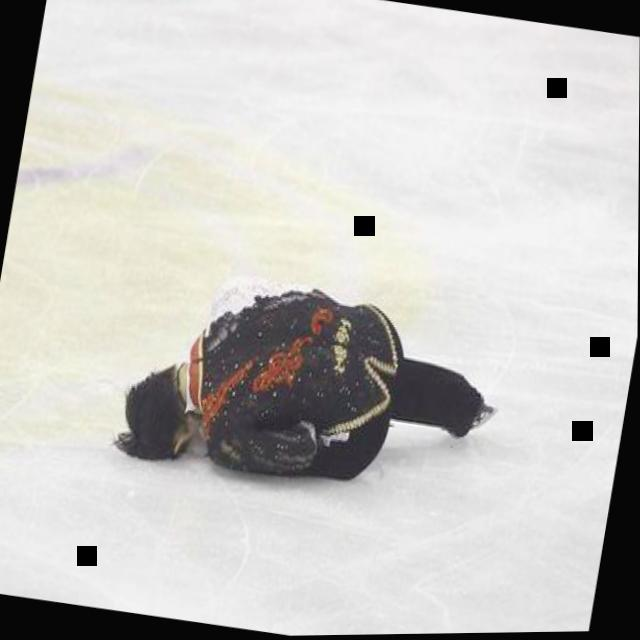Fall-Detected: (99, 227, 529, 527)
